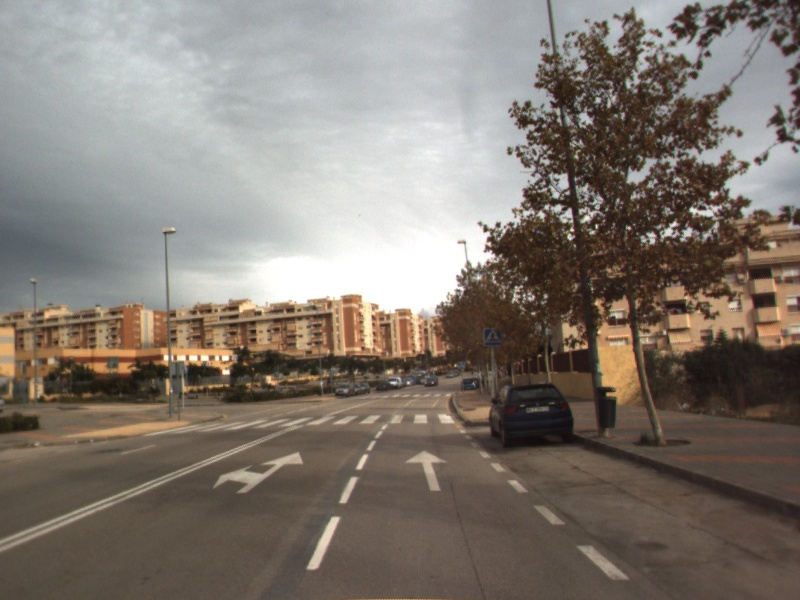STRAIGHT: (403, 448, 450, 493)
STRAIGHT_LEFT: (211, 450, 305, 495)
